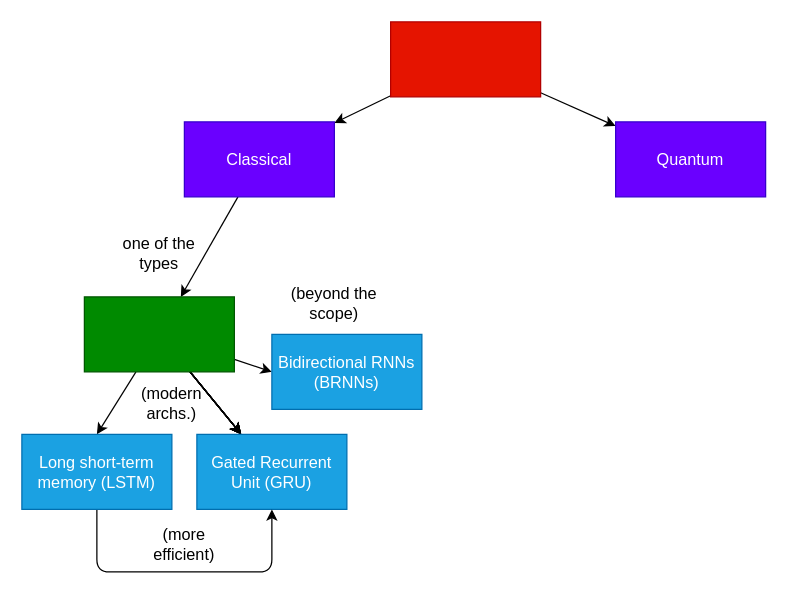
The diagram is 788 pixels wide and 604 high, and some of its shapes have lost their labels. Each missing label, with the centre of its shape:
"Neural Network Models" belongs at (x=465, y=59).
"RNN" belongs at (x=158, y=334).
